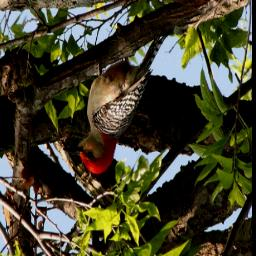Woodpecker: (62, 30, 172, 179)
